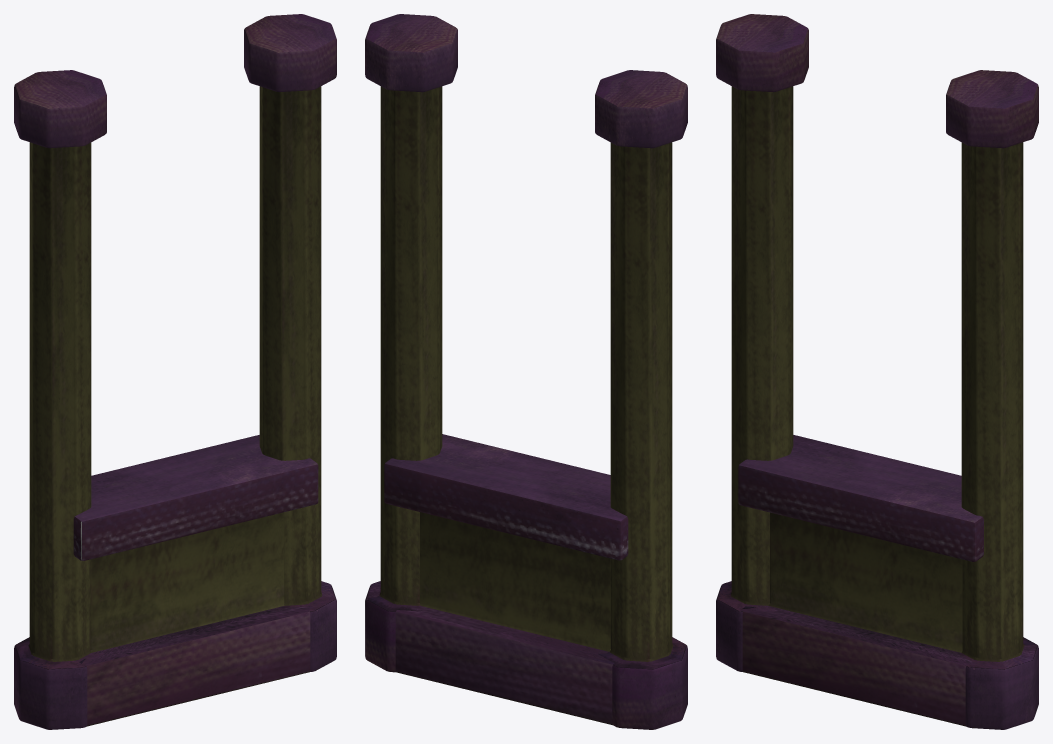
The model's file is MANOR_WALL_1_1.obj.
3 renders of one model, left to right at view 1: azimuth 30°, elevation 25°; view 2: azimuth 150°, elevation 25°; view 3: azimuth 330°, elevation 25°, orthographic.
Parts seen in each view (by area): view 1: MANOR_WALL_1_1.002; view 2: MANOR_WALL_1_1.002; view 3: MANOR_WALL_1_1.002.
Part boxes in pixels (left/top/right/bottom): MANOR_WALL_1_1.002: left=14, top=14, right=336, bottom=729; MANOR_WALL_1_1.002: left=365, top=14, right=687, bottom=729; MANOR_WALL_1_1.002: left=716, top=14, right=1038, bottom=729.
Bounding box in the file's own units: 1.57 × 3 × 0.4135.
